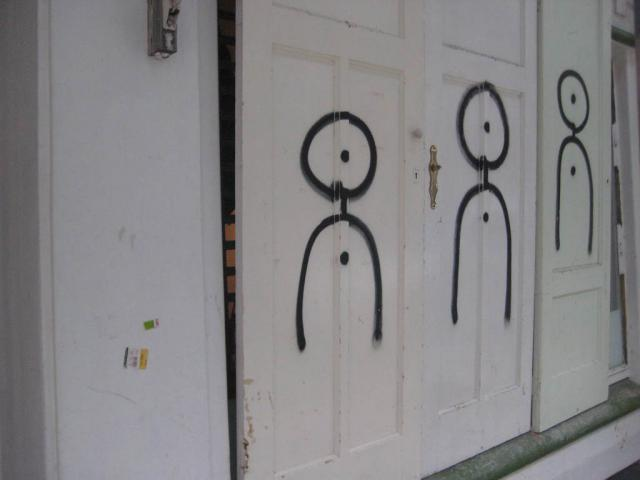Door-handle: (147, 0, 180, 62), (426, 141, 444, 212)
